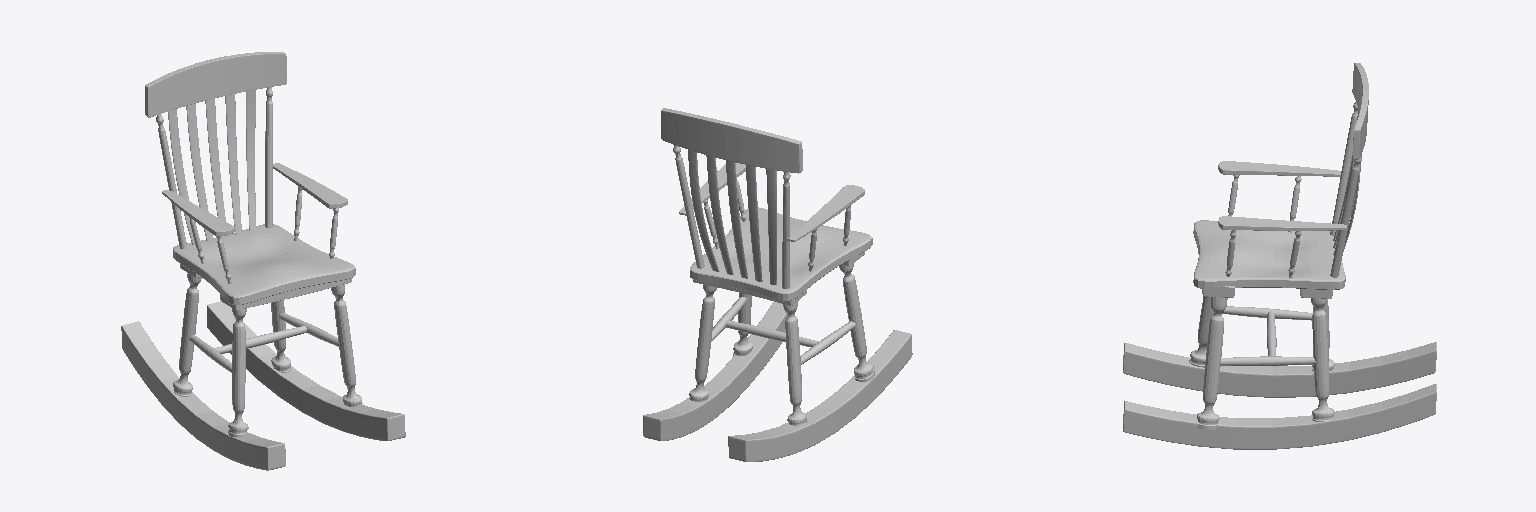
File: uploads_files_1868123_rocking+chair.obj
3 renders of one model, left to right at view 1: azimuth 30°, elevation 25°; view 2: azimuth 150°, elevation 25°; view 3: azimuth 270°, elevation 25°, orthographic.
Parts seen in each view (by area): view 1: Box001, Box020, Box019, Box004, Box005, Box015, Box018, Box016, Box003, Box012, Box011, Box002 (+4 smaller); view 2: Box001, Box019, Box005, Box020, Box004, Box018, Box015, Box017, Box011, Box003, Box002, Cylinder003 (+2 smaller); view 3: Box020, Box019, Box001, Box016, Box017, Box012, Box011, Box005, Box003, Box002, Cylinder001, Box015 (+1 smaller).
Part boxes in pixels (bbox=[...]): Box001: bbox=[173, 224, 355, 304]; Box020: bbox=[207, 301, 405, 440]; Box019: bbox=[121, 321, 285, 470]; Box004: bbox=[168, 90, 255, 244]; Box005: bbox=[145, 52, 286, 117]; Box015: bbox=[228, 308, 248, 436]; Box018: bbox=[173, 273, 201, 396]; Box016: bbox=[331, 284, 362, 406]; Box003: bbox=[265, 87, 272, 227]; Box012: bbox=[273, 163, 347, 208]; Box011: bbox=[162, 190, 234, 235]; Box002: bbox=[156, 114, 186, 248]; Box001: bbox=[690, 207, 872, 301]; Box019: bbox=[728, 330, 912, 461]; Box005: bbox=[661, 108, 802, 173]; Box020: bbox=[643, 302, 787, 440]; Box004: bbox=[688, 150, 776, 284]; Box018: bbox=[783, 301, 807, 425]; Box015: bbox=[839, 264, 874, 381]; Box017: bbox=[689, 285, 716, 401]; Box011: bbox=[787, 185, 864, 241]; Box003: bbox=[673, 145, 704, 268]; Box002: bbox=[782, 172, 790, 288]; Cylinder003: bbox=[719, 318, 818, 347]; Box020: bbox=[1123, 384, 1436, 449]; Box019: bbox=[1123, 342, 1436, 397]; Box001: bbox=[1193, 220, 1345, 289]; Box016: bbox=[1197, 297, 1227, 429]; Box017: bbox=[1311, 298, 1334, 421]; Box012: bbox=[1218, 216, 1346, 230]; Box011: bbox=[1218, 161, 1340, 176]; Box005: bbox=[1352, 63, 1368, 159]; Box003: bbox=[1330, 157, 1361, 277]; Box002: bbox=[1330, 102, 1357, 235]; Cylinder001: bbox=[1220, 356, 1315, 365]; Box015: bbox=[1189, 296, 1213, 367].
Bounding box in the file's own units: 153 × 338 × 292.